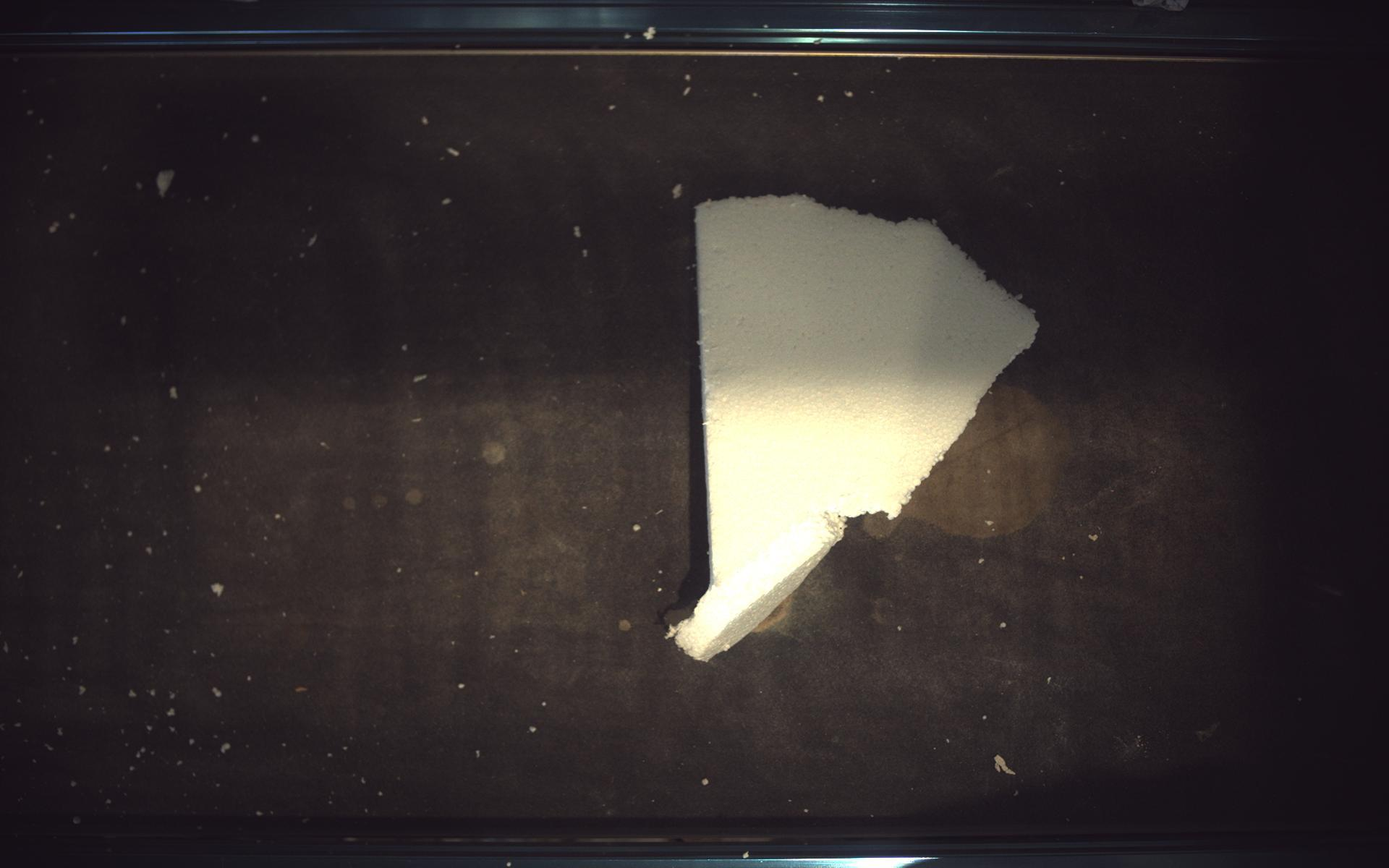foam: (673, 195, 1040, 661)
